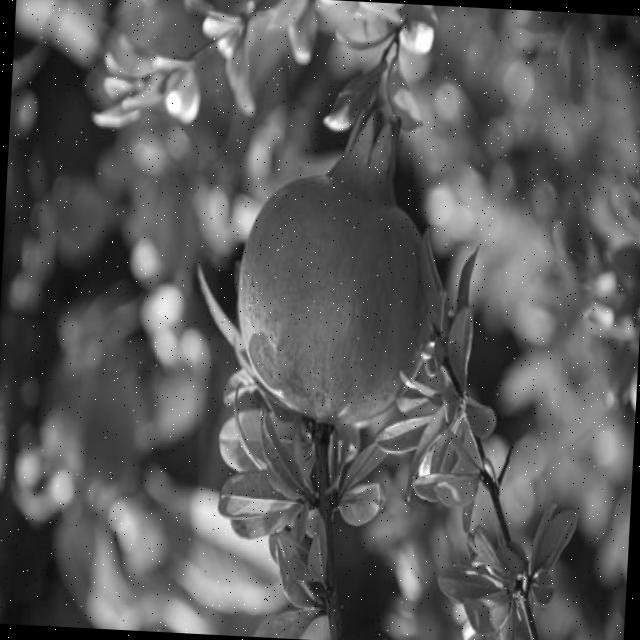Unripe: (233, 98, 440, 432)
